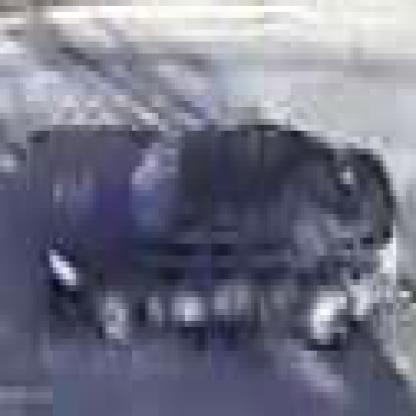car: (51, 132, 401, 358)
